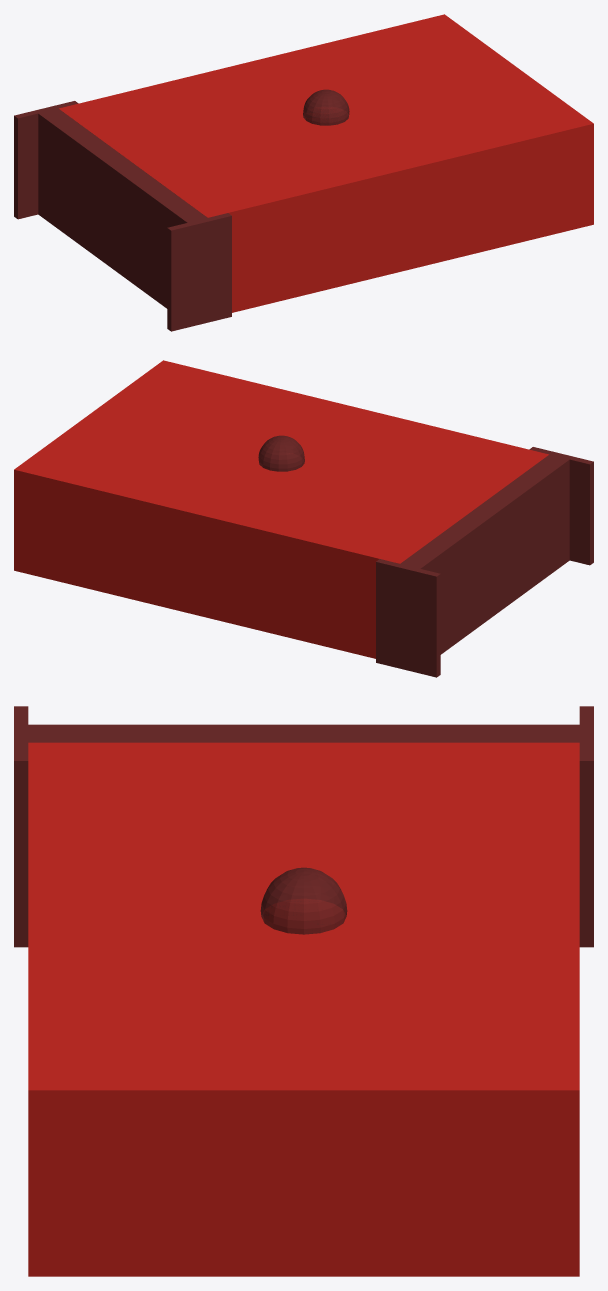
The model's file is led-block.glb.
3 views of the same model, one above another, from view 1: azimuth 30°, elevation 25°; view 2: azimuth 150°, elevation 25°; view 3: azimuth 270°, elevation 25° (orthographic). The views are drawn at different scales.
Parts seen in each view (by area): view 1: Cube, Cube.001, Sphere; view 2: Cube, Cube.001, Sphere; view 3: Cube, Cube.001, Sphere.
Boxes of the visible parts, x1,y1,x2,y2 form: Cube: (59,14,593,312); Cube.001: (14,101,231,331); Sphere: (303,89,349,125); Cube: (14,360,548,658); Cube.001: (376,447,593,677); Sphere: (258,435,304,471); Cube: (28,742,579,1276); Cube.001: (14,706,593,947); Sphere: (260,867,347,934).
Bounding box in the file's own units: 0.21 × 0.059 × 0.134.
